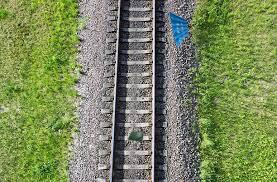Color_steel: (166, 10, 190, 49)
Dust_screen: (124, 130, 144, 141)
